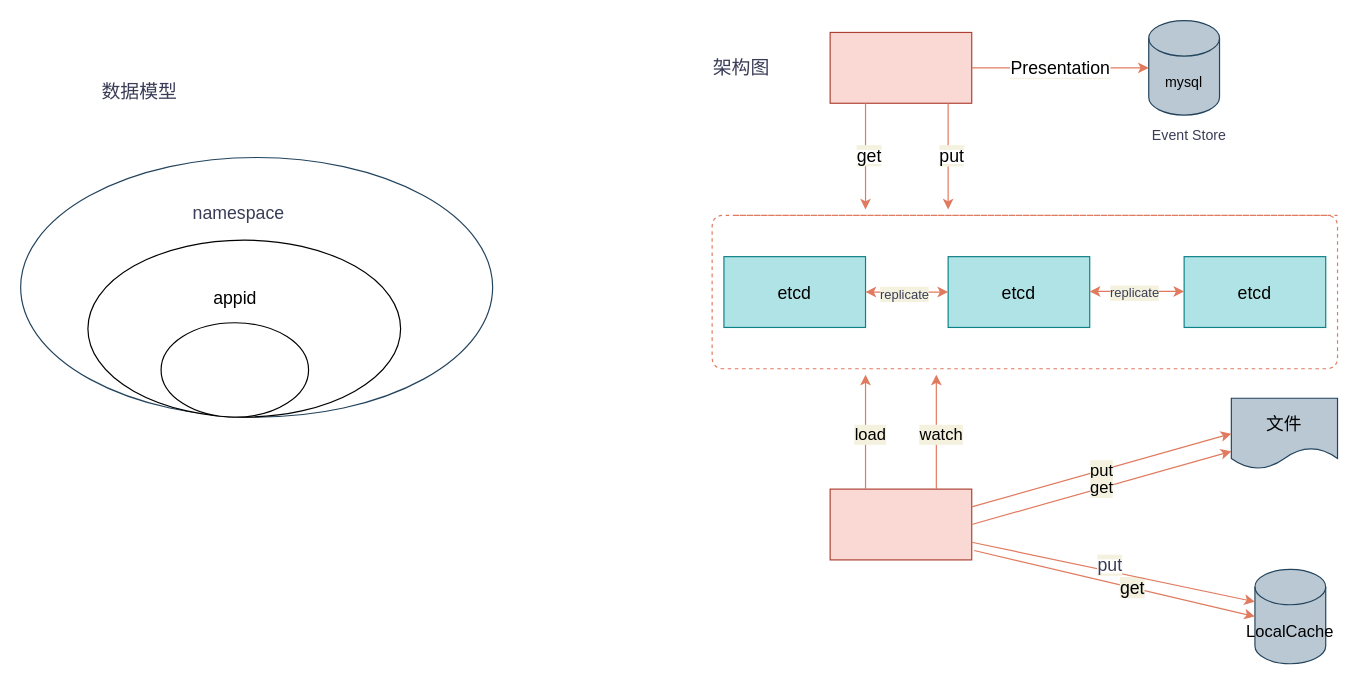
Some shapes in this 1359 by 684 pixel diagram are drawn without their labels. Here are the shapes that lost their labels. From the top down, the centre of each, then its label:
At [900,67]: "server".
At [234,369]: "name".
At [900,524]: "client sdk".
